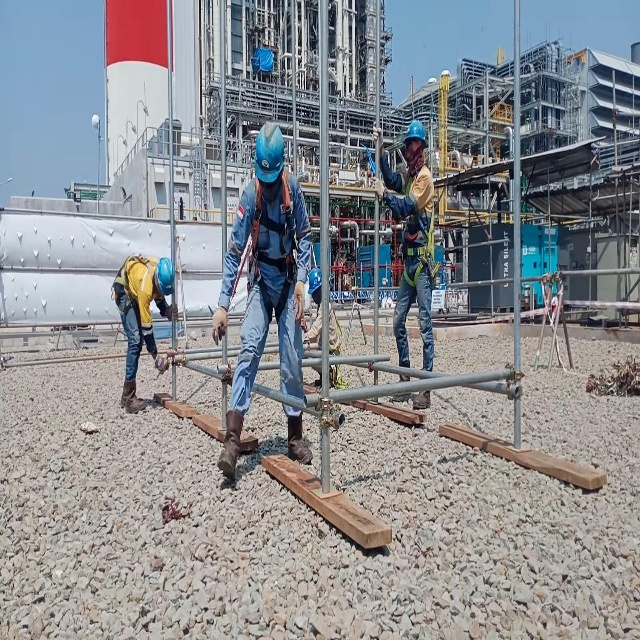Arnes_seguridad: (249, 168, 295, 328), (398, 163, 440, 294), (108, 252, 154, 327)
